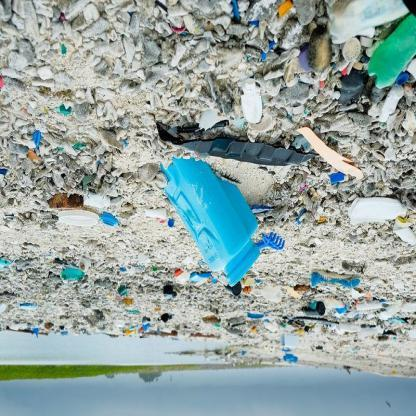Plastic: (160, 152, 265, 292), (366, 10, 416, 94)
